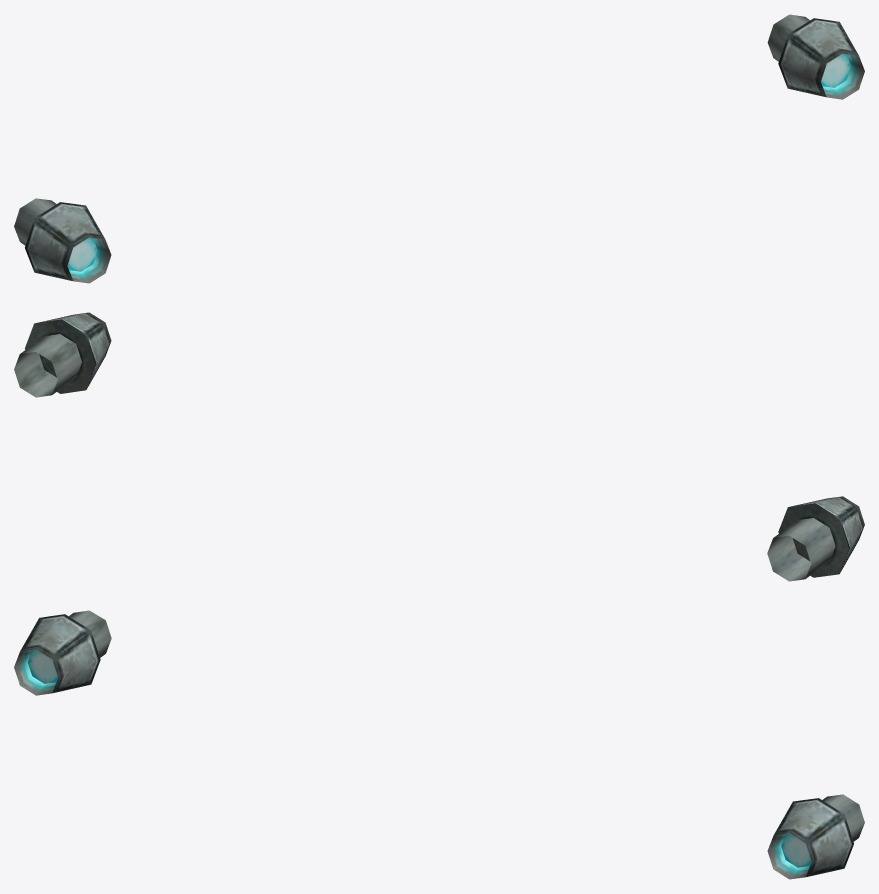
File: hutt_fighter_medium_weapon2_s02_l1.fbx
The picture shows the model from 3 angles, top to bottom: view 1: azimuth 30°, elevation 25°; view 2: azimuth 150°, elevation 25°; view 3: azimuth 330°, elevation 25°; orthographic projection.
Parts seen in each view (by area): view 1: mesh_node; view 2: mesh_node; view 3: mesh_node.
Part boxes in pixels (x1=…): mesh_node: x1=14, y1=14, x2=864, y2=283; mesh_node: x1=14, y1=312, x2=864, y2=581; mesh_node: x1=14, y1=610, x2=864, y2=879.
Bounding box in the file's own units: 3.3 × 0.2838 × 0.3735.
Materials: 1 (1 with a texture image).
